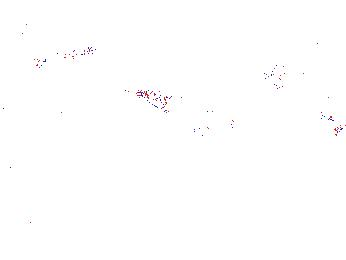X-ray fish: (258, 54, 309, 89), (156, 1, 215, 24), (191, 118, 227, 140), (318, 87, 335, 124)
glassfish: (137, 84, 249, 141)
red belly glassfish: (311, 38, 325, 51)
redtail glassfish: (28, 43, 97, 70)
